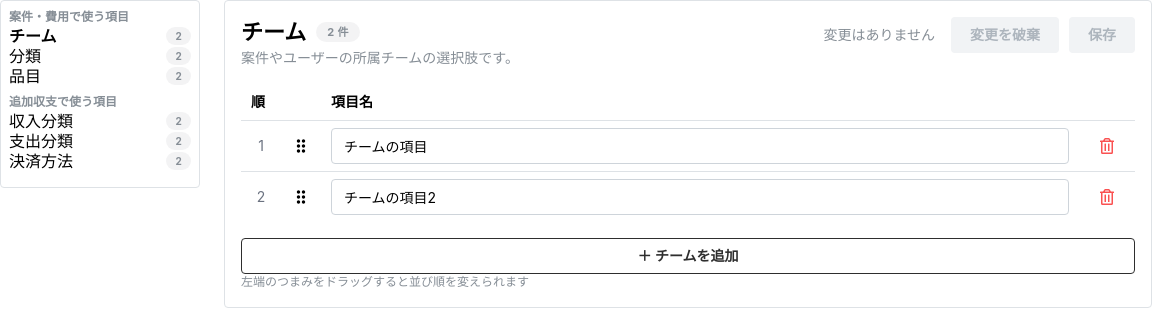
Test: OptionsManager › モバイル（768px 未満）の Select › 未保存の変更がある間だけ、画面下の固定バーとして表示する（CSS で切り替える）
Replace the text in the field showing "チームの項目" with "編集" at (700, 146), box [331,128,1069,164]
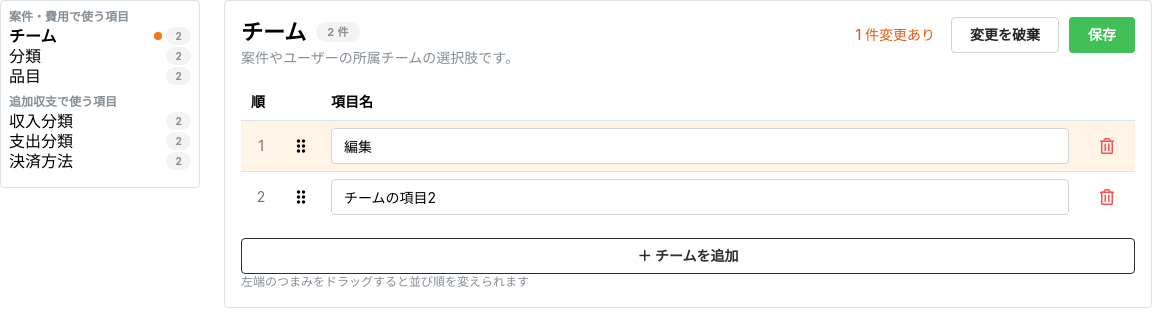
Expected: the button "変更を破棄" is enabled, [951,17,1059,53]
Expected: the button "保存" is enabled, [1069,17,1135,53]
